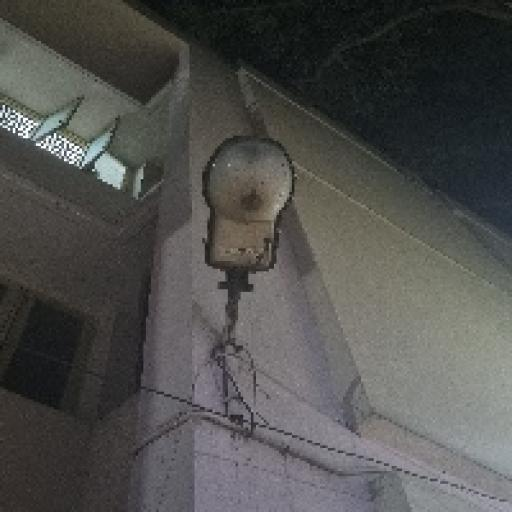Not Working: (180, 118, 314, 308)
